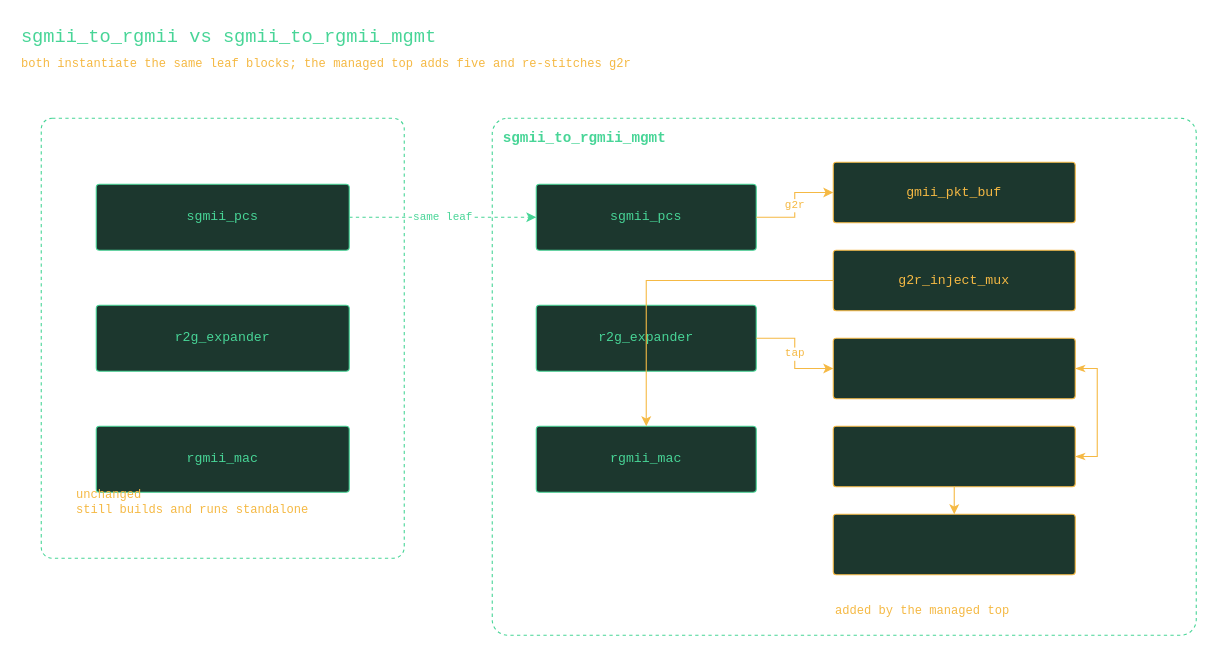
This 1216x655 diagram has some shape labels left out. Each missing label, with the box of its shape:
eth_mgmt: (832, 425, 1075, 487)
mgmt_flash: (832, 513, 1075, 575)
sgmii_to_rgmii: (40, 117, 404, 558)
udp_endpoint: (832, 337, 1075, 399)
